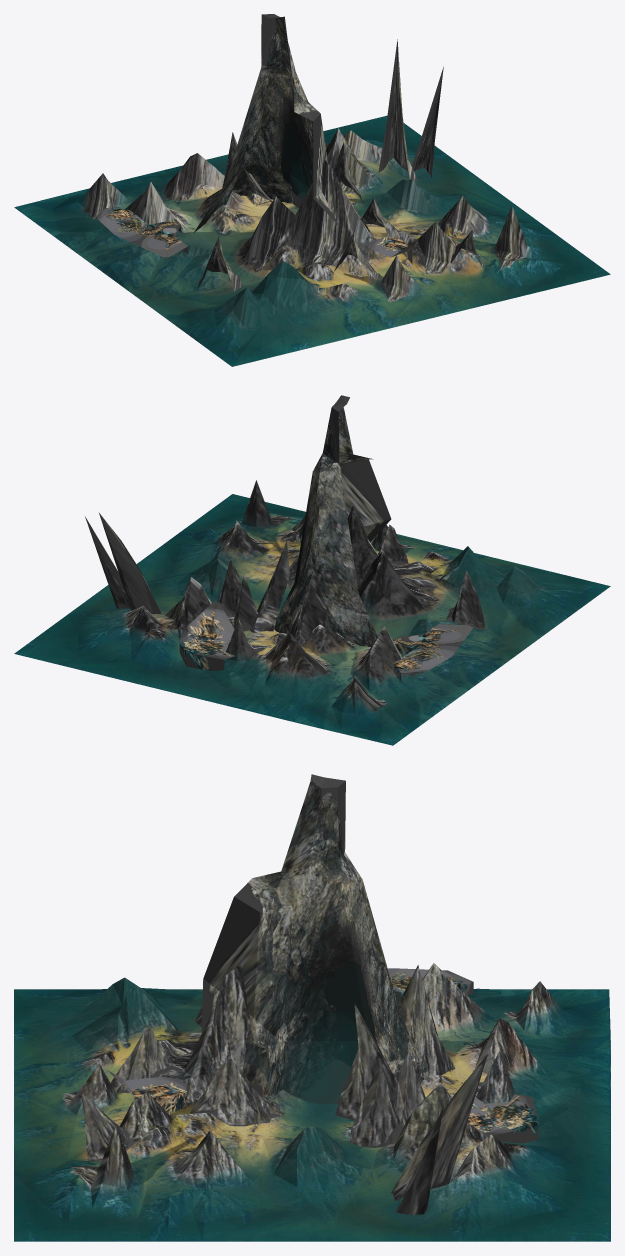
File: F_EventIsland_04.fbx
3 views of the same model, one above another, from view 1: azimuth 30°, elevation 25°; view 2: azimuth 150°, elevation 25°; view 3: azimuth 270°, elevation 25° (orthographic). The views are drawn at different scales.
Parts seen in each view (by area): view 1: E_Island_04; view 2: E_Island_04; view 3: E_Island_04.
Part boxes in pixels (bbox=[...]): E_Island_04: bbox=[14, 14, 610, 366]; E_Island_04: bbox=[14, 395, 610, 745]; E_Island_04: bbox=[14, 774, 610, 1241].
Bounding box in the file's own units: 6 × 3.72 × 6.
Materials: 1 (1 with a texture image).
